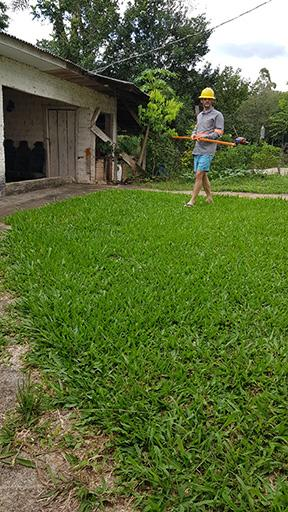Capacete: (199, 86, 216, 108)
Vara_Manobra: (171, 134, 235, 146)
